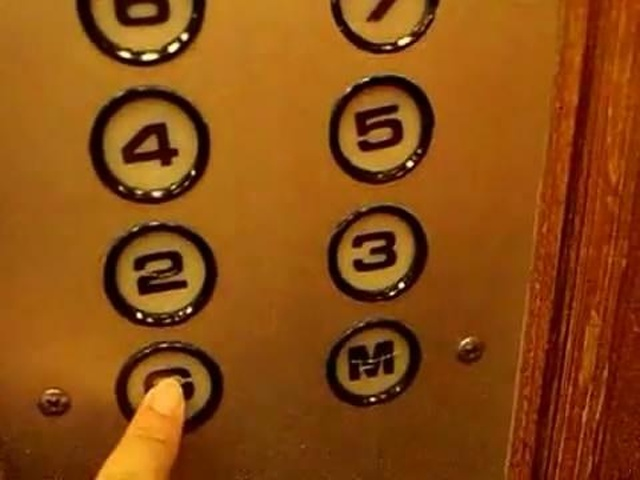2: (97, 217, 220, 332)
3: (323, 199, 431, 307)
4: (84, 81, 214, 209)
5: (324, 70, 438, 189)
M: (323, 314, 427, 413)
